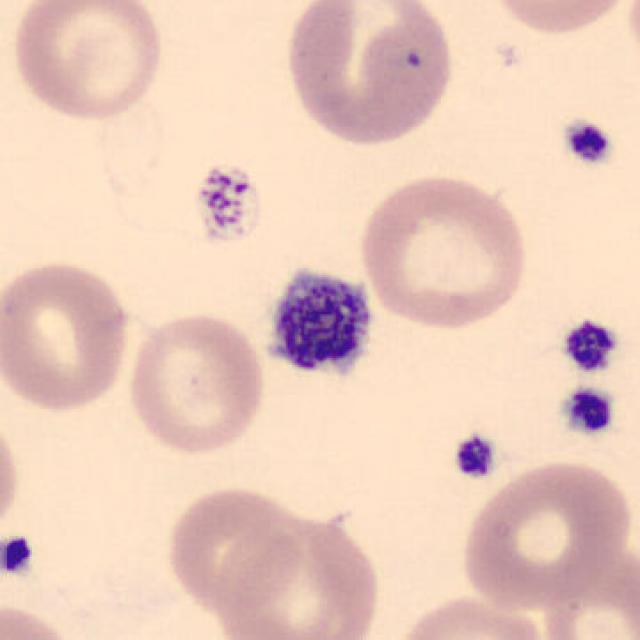Platelets: (258, 261, 378, 386), (188, 159, 266, 247), (558, 318, 620, 376), (556, 384, 618, 439), (558, 115, 615, 169), (448, 432, 500, 483), (0, 532, 37, 580)
RBC: (354, 169, 533, 335), (455, 455, 633, 612), (279, 0, 461, 150), (209, 493, 387, 640), (123, 307, 270, 458), (0, 254, 137, 416), (5, 0, 167, 123), (162, 482, 306, 616), (530, 541, 640, 640), (389, 590, 549, 640), (485, 0, 635, 37), (0, 599, 84, 640), (0, 406, 25, 542), (624, 0, 640, 81)
